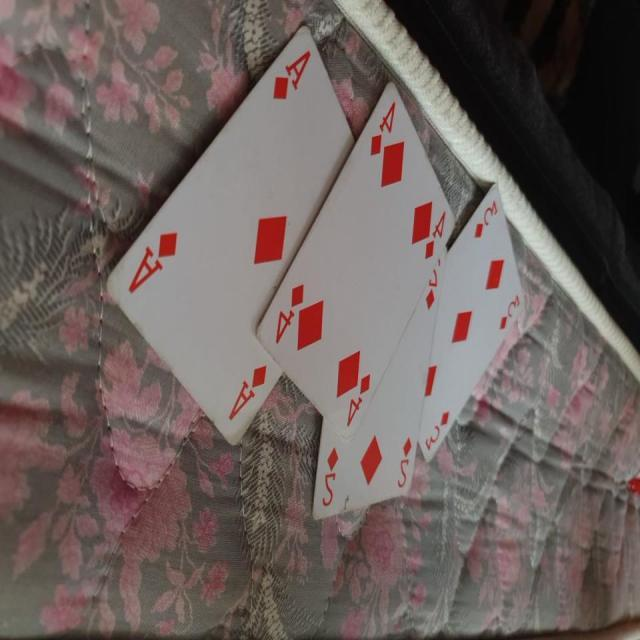2 of diamonds: (310, 248, 448, 521)
3 of diamonds: (417, 180, 527, 470)
4 of diamonds: (258, 72, 462, 444)
ace of diamonds: (102, 28, 360, 452)
